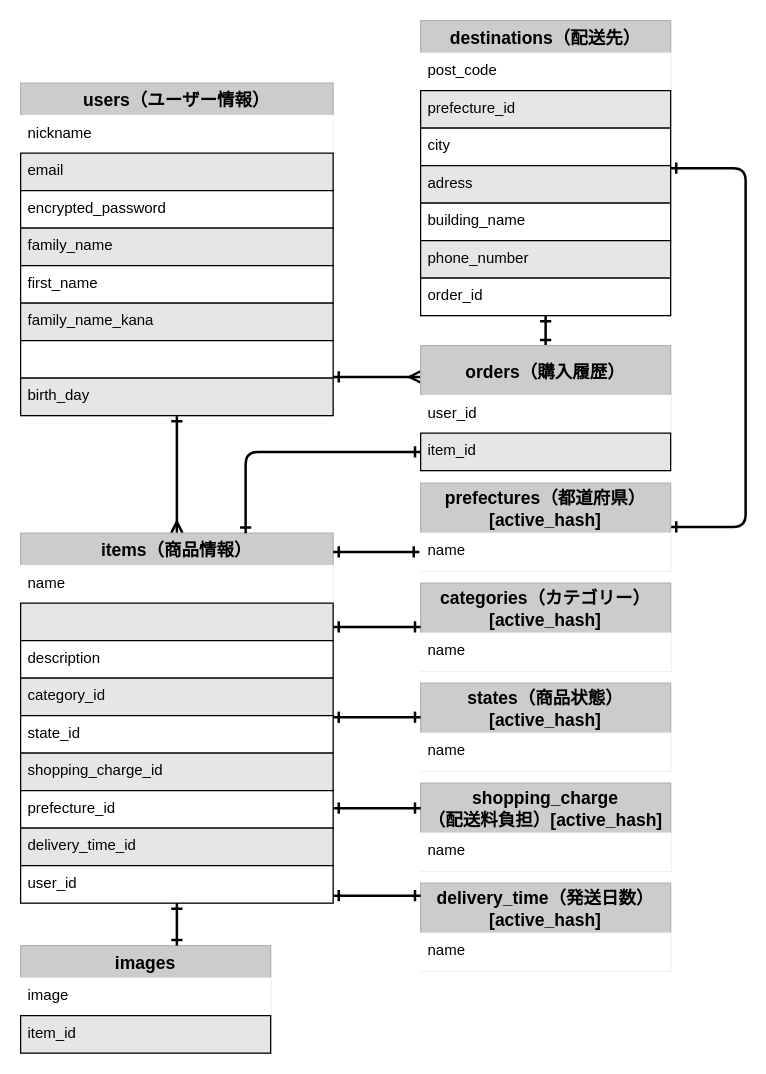
Some shapes in this 766 by 1074 pixel diagram are drawn without their labels. Here are the shapes that lost their labels. From the top down, the centre of each, then its label:
At (176,358): "first_name_kana".
At (176,621): "price".
